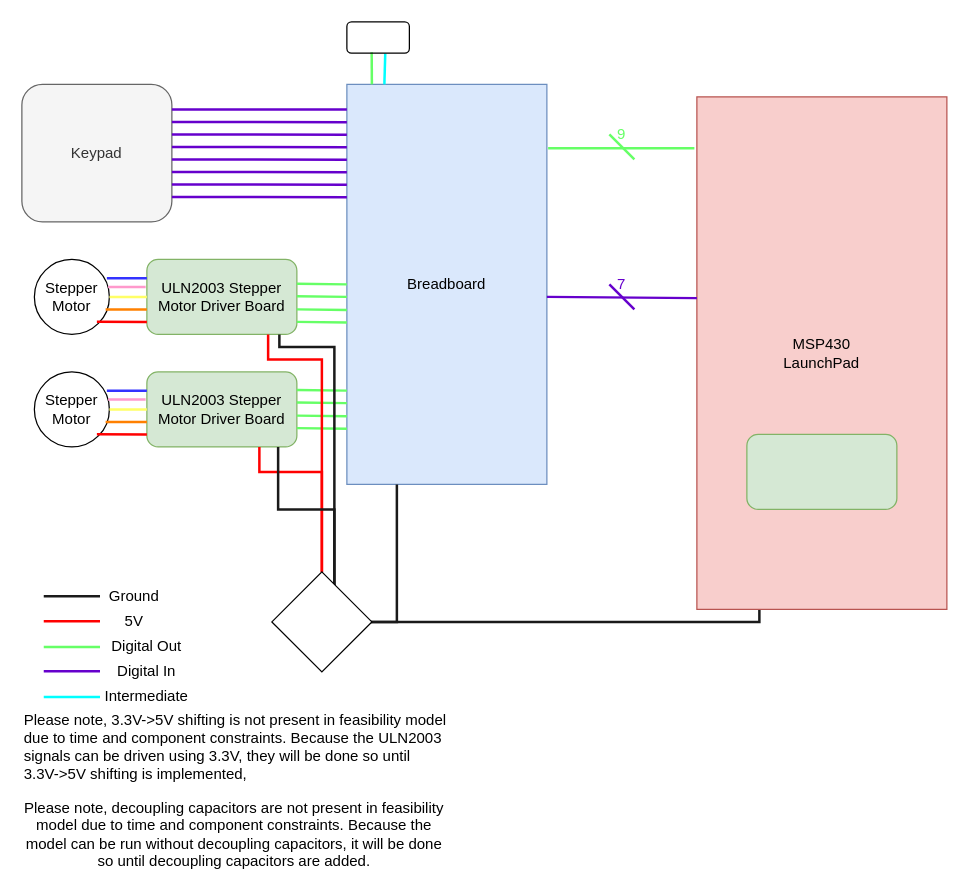
Image size: 969x894. Some labels were removed from this diagram. The shapes that lost their labels are listed below. From the top down, each one's centre as x and y in pixels, then its label:
At point (377, 37): "LED".
At point (821, 471): "LCD Display".
At point (321, 621): "5V Source".
